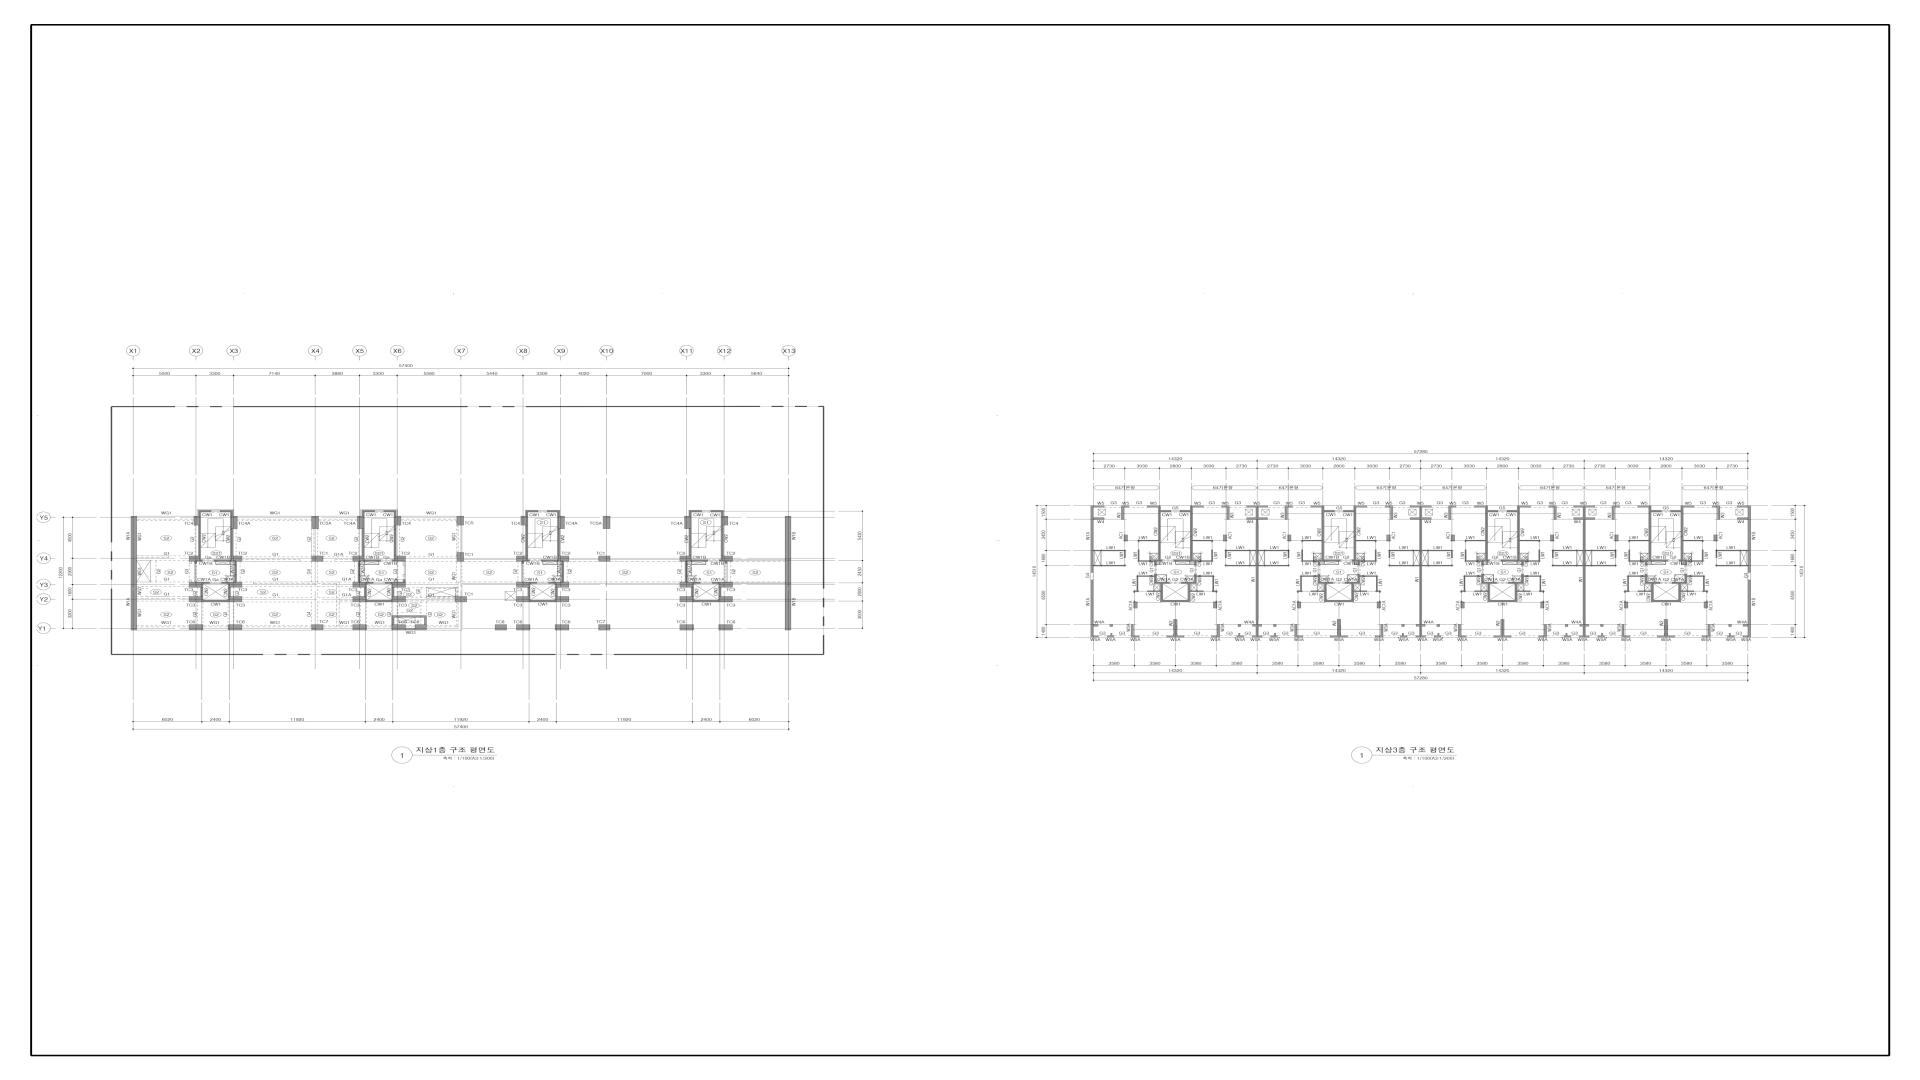wall: (1737, 506, 1751, 572), (1190, 505, 1204, 565), (1517, 506, 1531, 565), (1354, 505, 1367, 565), (1311, 506, 1324, 565), (1475, 506, 1488, 565), (1681, 506, 1694, 565), (1638, 506, 1651, 565), (131, 516, 137, 630), (785, 516, 791, 630), (1158, 510, 1171, 560), (1481, 574, 1497, 602), (1154, 574, 1169, 602), (1182, 574, 1197, 602), (1318, 574, 1333, 602), (1345, 574, 1360, 602), (1645, 574, 1660, 602), (1509, 574, 1524, 602), (1672, 574, 1687, 602), (1657, 619, 1675, 638), (1330, 619, 1348, 637), (1583, 520, 1586, 624), (1167, 619, 1184, 637), (1494, 619, 1511, 637), (1256, 524, 1259, 620), (1716, 550, 1748, 558), (1247, 506, 1268, 518), (1410, 506, 1431, 518), (1574, 506, 1595, 518), (1389, 550, 1420, 558), (1552, 550, 1583, 558), (1422, 550, 1453, 558), (1586, 550, 1616, 558), (1420, 520, 1422, 624), (1687, 550, 1704, 562), (1138, 550, 1154, 562), (1197, 550, 1213, 562), (1302, 550, 1318, 562), (1465, 550, 1481, 562), (1629, 550, 1645, 562), (1360, 550, 1376, 562), (1524, 550, 1540, 562), (1252, 620, 1262, 637), (1748, 580, 1751, 624), (1416, 624, 1426, 637), (1211, 624, 1220, 637), (1580, 624, 1589, 637), (1121, 506, 1129, 520), (1612, 506, 1620, 520), (1385, 506, 1393, 520), (1549, 506, 1557, 520), (557, 516, 565, 529), (684, 516, 692, 529), (1091, 520, 1093, 572), (1131, 624, 1139, 637), (1295, 624, 1303, 637), (1458, 624, 1466, 637), (1622, 624, 1630, 637), (1375, 624, 1383, 637), (1539, 624, 1547, 637), (1702, 624, 1710, 637), (1743, 624, 1751, 637), (1222, 506, 1229, 520), (1285, 506, 1292, 520), (1449, 506, 1456, 520), (1713, 506, 1720, 520), (198, 525, 201, 556), (721, 525, 724, 556), (230, 516, 237, 529), (312, 516, 319, 529), (357, 516, 364, 529), (603, 516, 610, 529), (558, 516, 565, 529), (685, 516, 692, 529), (1091, 580, 1093, 624), (680, 596, 694, 602), (719, 596, 733, 602), (189, 596, 203, 602), (228, 596, 242, 602), (189, 624, 203, 630), (228, 624, 242, 630), (353, 624, 367, 630), (353, 596, 367, 602), (392, 596, 406, 602), (392, 624, 406, 630), (516, 596, 530, 602), (555, 596, 569, 602), (516, 624, 530, 630), (555, 624, 569, 630), (392, 556, 406, 562), (680, 624, 694, 630), (230, 529, 233, 556), (557, 529, 560, 556), (689, 529, 692, 556), (547, 510, 560, 516), (711, 510, 724, 516), (689, 510, 702, 516), (1091, 626, 1098, 637), (721, 556, 733, 562), (680, 556, 692, 562), (230, 556, 242, 562), (394, 556, 406, 562), (415, 624, 427, 630), (455, 596, 467, 602), (516, 556, 528, 562), (557, 556, 569, 562), (495, 624, 507, 630), (526, 510, 538, 516), (680, 582, 694, 587), (719, 582, 733, 587), (189, 582, 203, 587), (228, 582, 242, 587), (353, 582, 367, 587), (392, 582, 406, 587), (392, 615, 427, 617), (457, 552, 464, 562), (516, 582, 530, 587), (555, 582, 569, 587), (680, 625, 694, 630), (719, 625, 733, 630), (312, 624, 323, 630), (312, 556, 323, 562), (353, 556, 364, 562), (599, 556, 610, 562), (599, 624, 610, 630), (394, 615, 427, 617), (194, 516, 201, 525), (394, 516, 401, 525), (457, 516, 464, 525), (521, 516, 528, 525), (721, 516, 728, 525), (685, 561, 688, 582), (394, 525, 396, 556), (526, 525, 528, 556), (685, 562, 688, 582), (189, 556, 201, 561), (234, 562, 237, 582), (561, 562, 564, 582), (415, 625, 427, 630), (557, 556, 569, 561), (495, 625, 507, 630), (680, 556, 692, 561), (599, 625, 610, 630), (362, 529, 364, 556), (689, 529, 691, 556), (541, 559, 558, 562), (694, 600, 719, 602), (203, 600, 228, 602), (367, 600, 392, 602), (530, 600, 555, 602), (1490, 600, 1515, 602), (1654, 600, 1679, 602), (1163, 600, 1188, 602), (1326, 600, 1351, 602), (562, 561, 564, 582), (1247, 518, 1268, 520), (1410, 518, 1431, 520), (1574, 518, 1595, 520), (1683, 540, 1704, 542), (358, 562, 360, 582), (1138, 540, 1158, 542), (1154, 560, 1162, 565), (1193, 540, 1213, 542), (1302, 540, 1322, 542), (1356, 540, 1376, 542), (1520, 540, 1540, 542), (1465, 540, 1485, 542), (1629, 540, 1649, 542), (1091, 517, 1104, 520), (404, 562, 406, 580), (1727, 633, 1734, 638), (364, 560, 381, 562), (541, 560, 558, 562), (691, 560, 708, 562), (1651, 560, 1668, 562), (1093, 550, 1126, 551), (1093, 565, 1126, 566), (1737, 517, 1748, 520), (692, 560, 708, 562), (214, 560, 230, 562), (1174, 560, 1190, 562), (1324, 560, 1340, 562), (1716, 565, 1748, 566), (1501, 560, 1517, 562), (1225, 550, 1256, 551), (1225, 565, 1256, 566), (1258, 565, 1289, 566), (1389, 565, 1420, 566), (1552, 565, 1583, 566), (1422, 565, 1453, 566), (1259, 550, 1289, 551), (1586, 565, 1616, 566), (1107, 633, 1114, 637), (1213, 601, 1217, 608), (1237, 633, 1244, 637), (1434, 633, 1441, 637), (1598, 633, 1605, 637), (1400, 633, 1407, 637), (1564, 633, 1571, 637), (1300, 577, 1302, 591), (1297, 601, 1301, 608), (1624, 601, 1628, 608), (1377, 601, 1381, 608), (1704, 601, 1708, 608), (1376, 577, 1378, 591), (1627, 577, 1629, 591), (1703, 577, 1705, 591), (691, 587, 694, 596), (228, 587, 231, 596), (364, 587, 367, 596), (555, 587, 558, 596), (198, 510, 211, 512), (384, 510, 396, 512), (424, 617, 427, 625), (1124, 535, 1128, 541), (1223, 535, 1227, 541), (1271, 633, 1277, 637), (1451, 535, 1455, 541), (1550, 535, 1554, 541), (1714, 535, 1718, 541), (1091, 507, 1093, 518), (1343, 510, 1354, 512), (1651, 510, 1662, 512), (424, 617, 427, 624), (1134, 601, 1137, 608), (1461, 601, 1464, 608), (1541, 601, 1544, 608), (220, 510, 230, 512), (365, 510, 375, 512), (528, 510, 538, 512), (547, 510, 557, 512), (692, 510, 702, 512), (711, 510, 721, 512), (392, 615, 394, 625), (1180, 510, 1190, 512), (1324, 510, 1334, 512), (1488, 510, 1498, 512), (1507, 510, 1517, 512), (1671, 510, 1681, 512), (719, 587, 721, 596), (201, 587, 203, 596), (230, 510, 233, 516), (362, 510, 365, 516), (392, 587, 394, 596), (406, 628, 415, 630), (528, 587, 530, 596), (557, 510, 560, 516), (689, 510, 692, 516), (721, 510, 724, 516), (1288, 535, 1291, 541), (1387, 535, 1390, 541), (1615, 535, 1618, 541), (1300, 576, 1318, 577), (1360, 576, 1378, 577), (1687, 576, 1705, 577), (1137, 576, 1154, 577), (1197, 576, 1214, 577), (1464, 576, 1481, 577), (1524, 576, 1541, 577), (1628, 576, 1645, 577), (392, 617, 394, 625), (712, 582, 719, 584), (203, 582, 210, 584), (385, 582, 392, 584), (530, 582, 537, 584), (1124, 551, 1126, 558), (1091, 624, 1098, 626), (1147, 506, 1161, 507), (1137, 577, 1138, 591), (1213, 577, 1214, 591), (1225, 551, 1227, 558), (1464, 577, 1465, 591), (1540, 577, 1541, 591), (1474, 591, 1488, 592), (1638, 591, 1651, 592), (1681, 591, 1694, 592), (1091, 506, 1104, 507), (1147, 591, 1160, 592), (1190, 591, 1203, 592), (1311, 591, 1324, 592), (1354, 591, 1367, 592), (1518, 591, 1531, 592), (694, 582, 700, 584), (198, 512, 201, 516), (222, 582, 228, 584), (367, 582, 373, 584), (526, 510, 528, 516), (549, 582, 555, 584), (1624, 591, 1630, 593), (1600, 624, 1604, 627), (1539, 591, 1544, 593), (1703, 591, 1708, 593), (1134, 591, 1139, 593), (1212, 591, 1217, 593), (1297, 591, 1302, 593), (1376, 591, 1381, 593), (1461, 591, 1466, 593), (194, 561, 197, 564), (521, 561, 524, 564), (1110, 624, 1113, 627), (1158, 507, 1161, 510), (1238, 624, 1241, 627), (1273, 624, 1276, 627), (1437, 624, 1440, 627), (1402, 624, 1405, 627), (1565, 624, 1568, 627), (1729, 624, 1732, 627), (394, 512, 396, 516), (1256, 520, 1258, 524), (1288, 551, 1289, 558), (725, 562, 728, 564), (403, 580, 406, 582), (521, 562, 524, 564), (719, 560, 721, 562), (392, 560, 394, 562), (528, 560, 530, 562), (725, 562, 727, 564), (1352, 560, 1354, 562), (1679, 560, 1681, 562), (201, 560, 203, 561), (1488, 560, 1489, 562)
